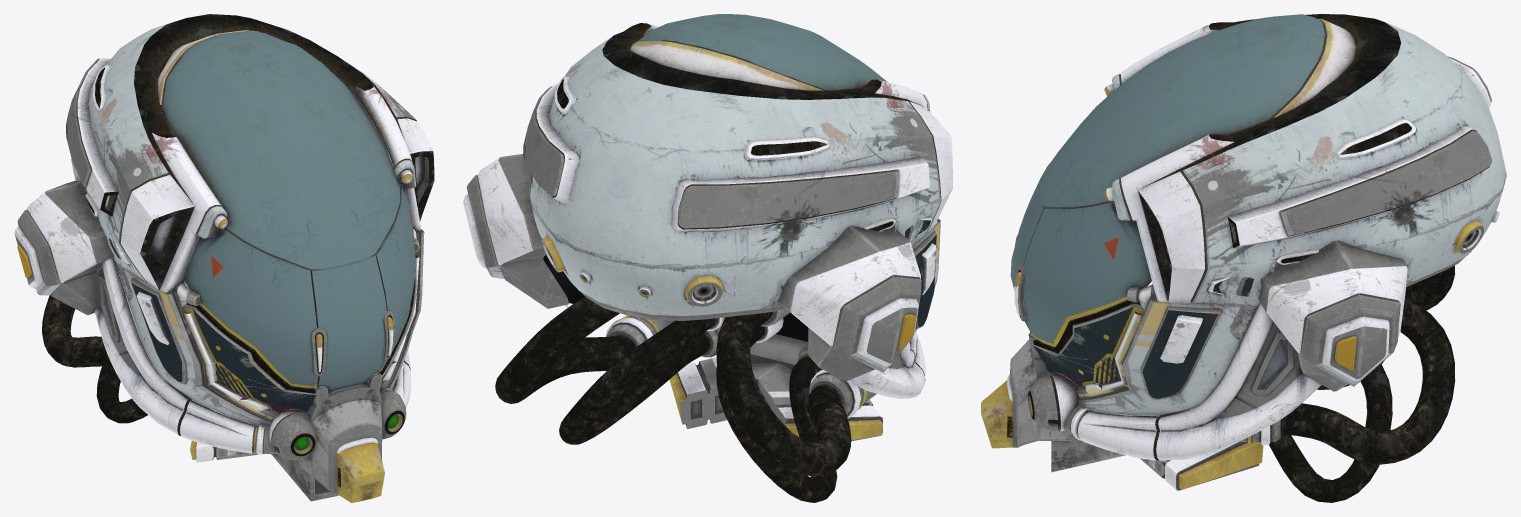
Rendered from DamagedHelmet.glb.
3 views of the same model, side by side, from view 1: azimuth 30°, elevation 25°; view 2: azimuth 150°, elevation 25°; view 3: azimuth 270°, elevation 25° (orthographic). The views are drawn at different scales.
Visible parts, largest first — view 1: node_damagedHelmet_-6514; view 2: node_damagedHelmet_-6514; view 3: node_damagedHelmet_-6514.
Boxes of the visible parts, x1,y1,x2,y2 form: node_damagedHelmet_-6514: (14,14,434,502); node_damagedHelmet_-6514: (463,14,952,502); node_damagedHelmet_-6514: (981,14,1506,502).
Bounding box in the file's own units: 1.89 × 1.8 × 2.
1 material, 1 textured.
